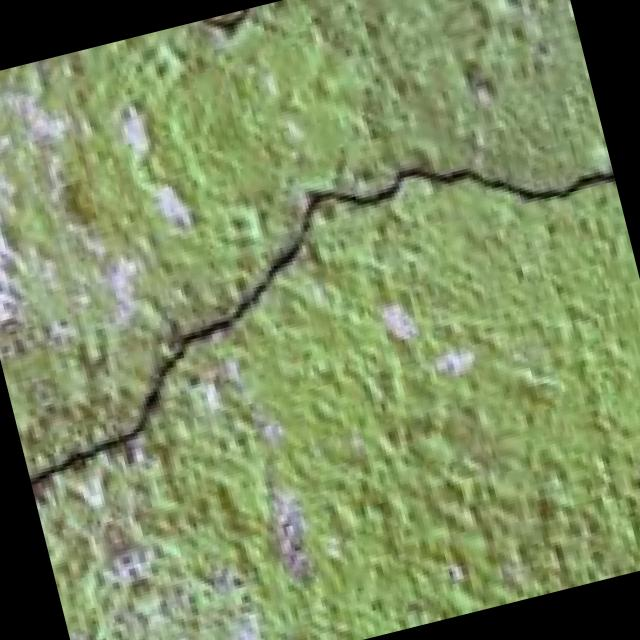crack: (0, 70, 640, 518)
